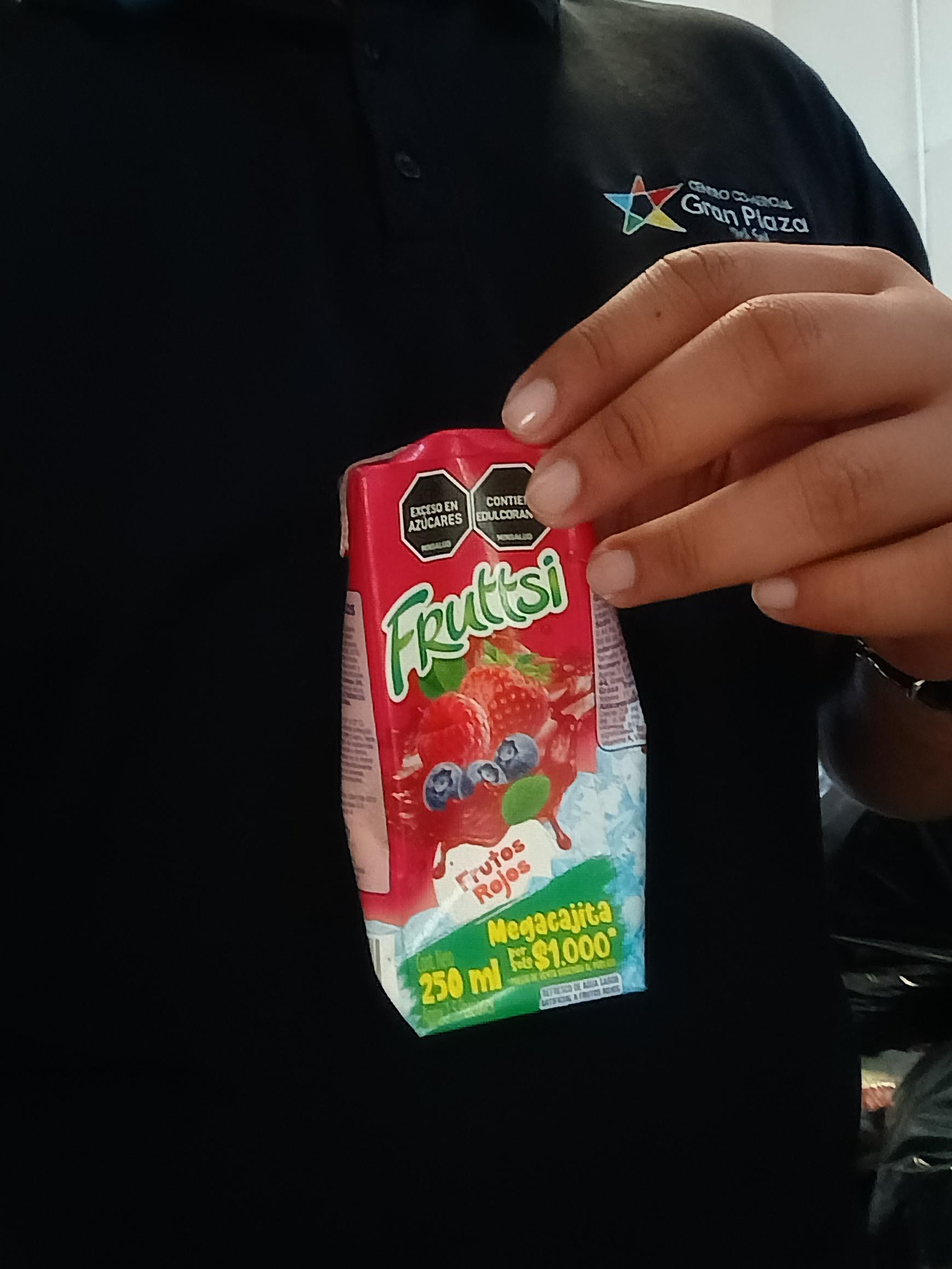Carton: (336, 430, 653, 1039)
